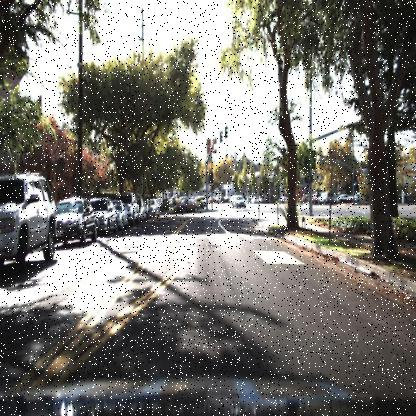car: (0, 171, 58, 270), (55, 189, 99, 248), (95, 195, 118, 241), (168, 196, 203, 221), (125, 193, 139, 225), (116, 198, 128, 228), (227, 192, 247, 210), (315, 190, 337, 206), (334, 191, 356, 205), (351, 190, 370, 206), (317, 188, 335, 204), (306, 192, 321, 209), (196, 196, 208, 209)
